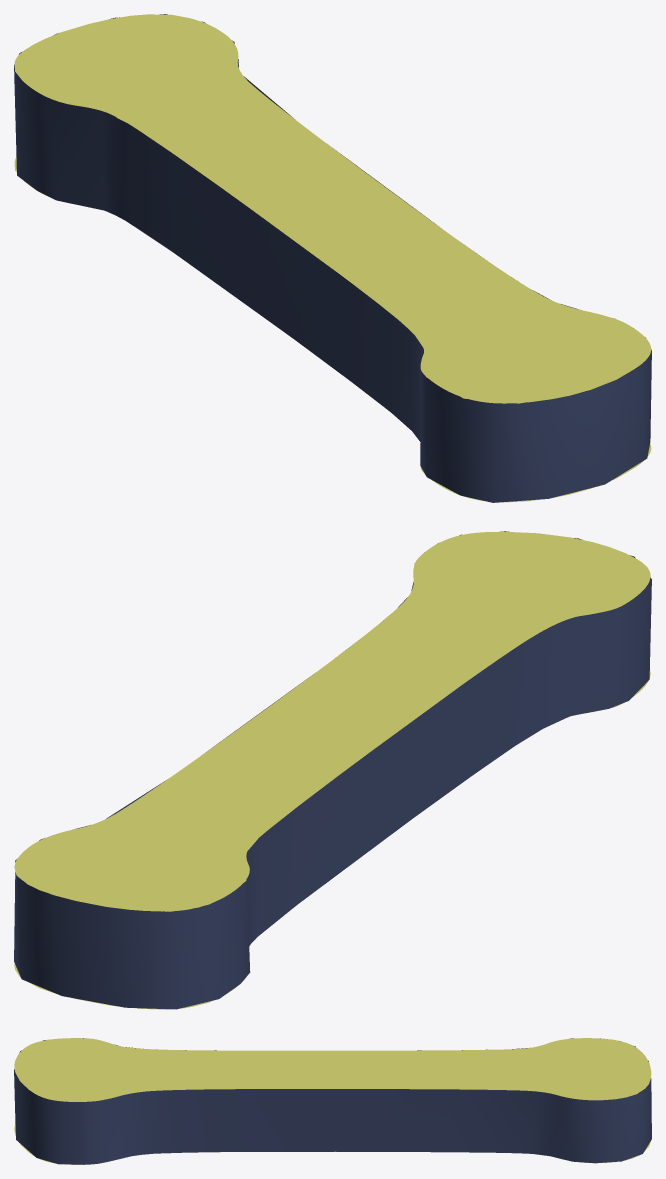
Rendered from i_boss.fbx.
The picture shows the model from 3 angles, top to bottom: view 1: azimuth 30°, elevation 25°; view 2: azimuth 150°, elevation 25°; view 3: azimuth 270°, elevation 25°; orthographic projection. The views are drawn at different scales.
Visible parts, largest first — view 1: I; view 2: I; view 3: I.
Boxes of the visible parts, x1=… form: I: x1=14, y1=14, x2=651, y2=502; I: x1=14, y1=531, x2=651, y2=1009; I: x1=14, y1=1038, x2=651, y2=1164.
Size of the model in its own units: 0.3498 by 0.1599 by 1.47.
